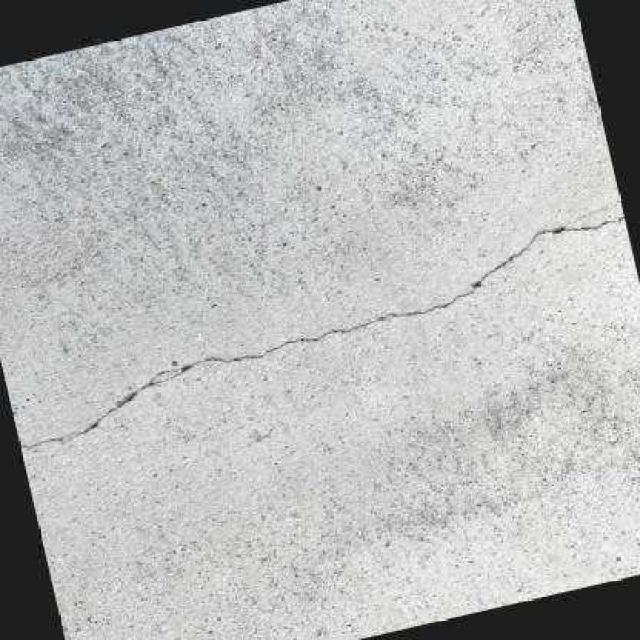D00: (20, 215, 625, 447)
